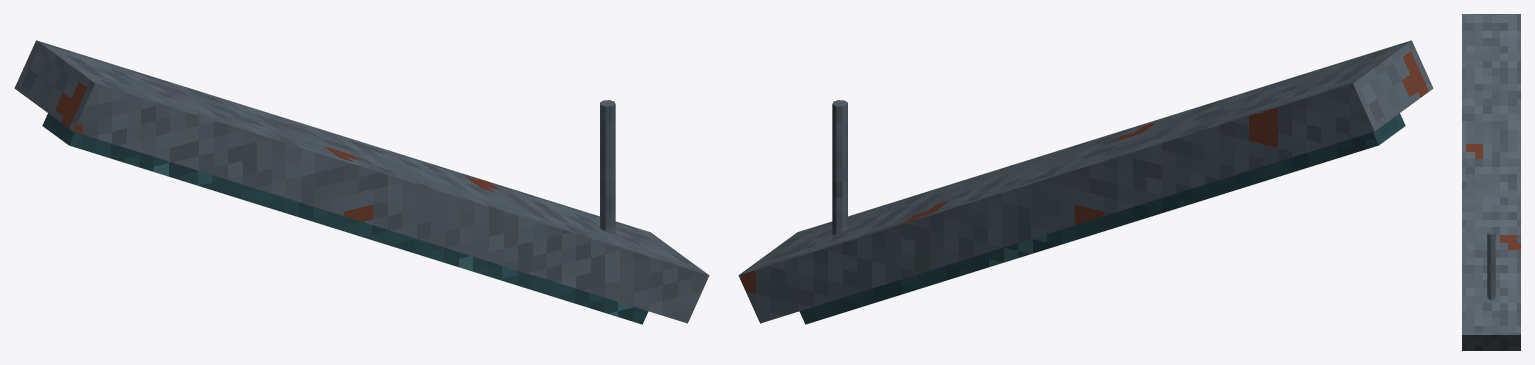
File: lamp_broken.gltf
3 views of the same model, side by side, from view 1: azimuth 30°, elevation 25°; view 2: azimuth 150°, elevation 25°; view 3: azimuth 270°, elevation 25° (orthographic). The views are drawn at different scales.
Visible parts, largest first — view 1: lamp_broken; view 2: lamp_broken; view 3: lamp_broken.
Part boxes in pixels (x1,y1,x2,y2): lamp_broken: (14,40,709,324); lamp_broken: (738,40,1433,324); lamp_broken: (1462,14,1520,350).
Bounding box in the file's own units: 1.37 × 0.8043 × 0.22.
Materials: 2 (2 with a texture image).
